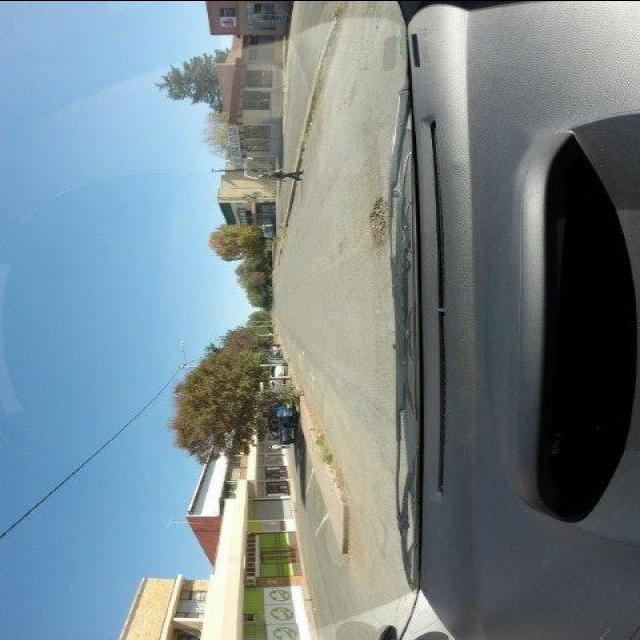lubang: (364, 195, 396, 245)
